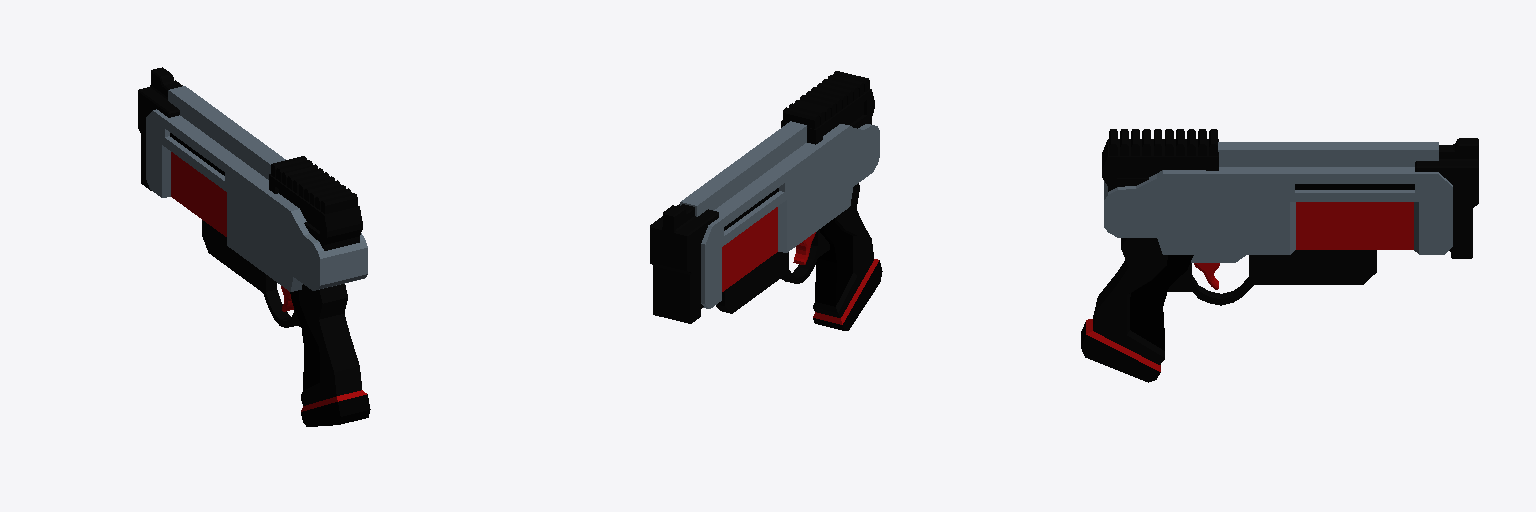
File: Pistol.obj
3 renders of one model, left to right at view 1: azimuth 30°, elevation 25°; view 2: azimuth 150°, elevation 25°; view 3: azimuth 270°, elevation 25°, orthographic.
Visible parts, largest first — view 1: Pistol_Cube.002; view 2: Pistol_Cube.002; view 3: Pistol_Cube.002.
Part boxes in pixels (x1,y1,x2,y2): Pistol_Cube.002: (138, 67, 370, 426); Pistol_Cube.002: (650, 71, 882, 330); Pistol_Cube.002: (1081, 129, 1478, 382).
Bounding box in the file's own units: 0.3813 × 1.82 × 2.75.